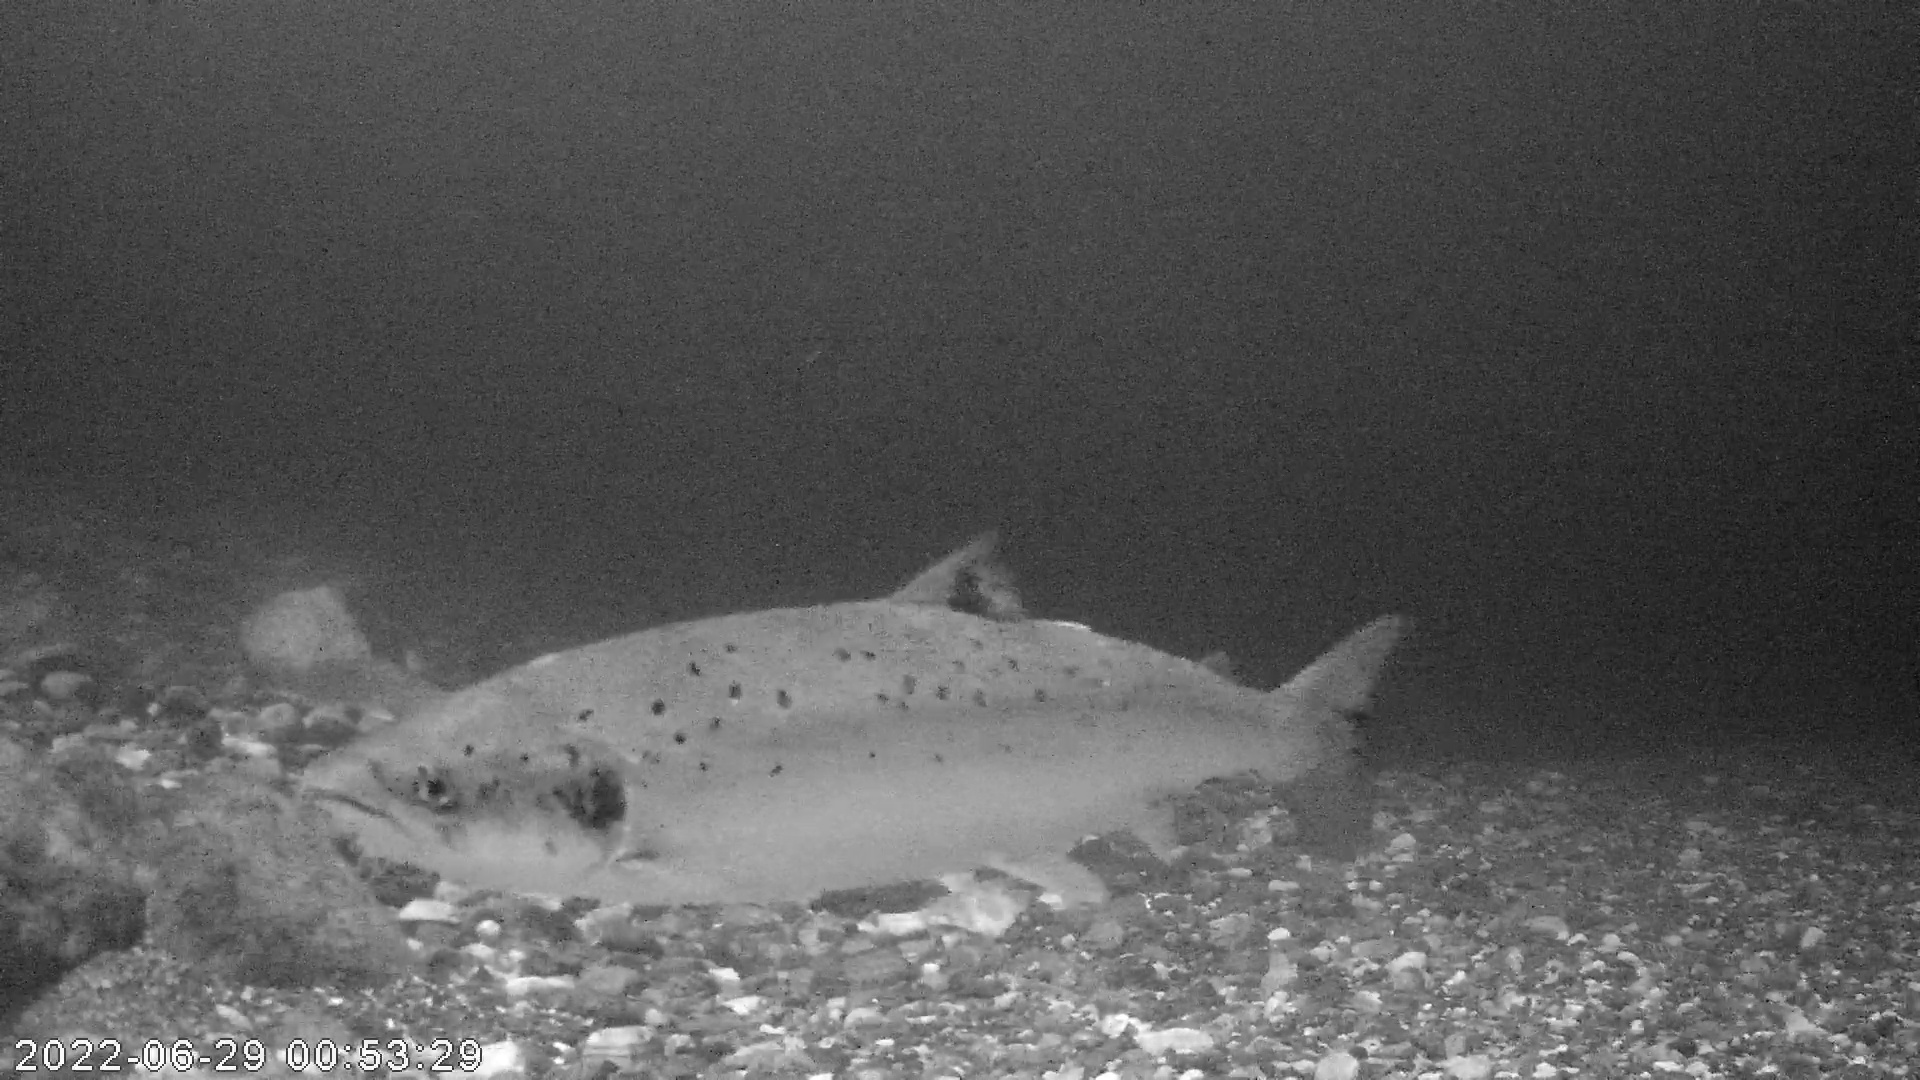salmon: (371, 502, 1364, 916)
